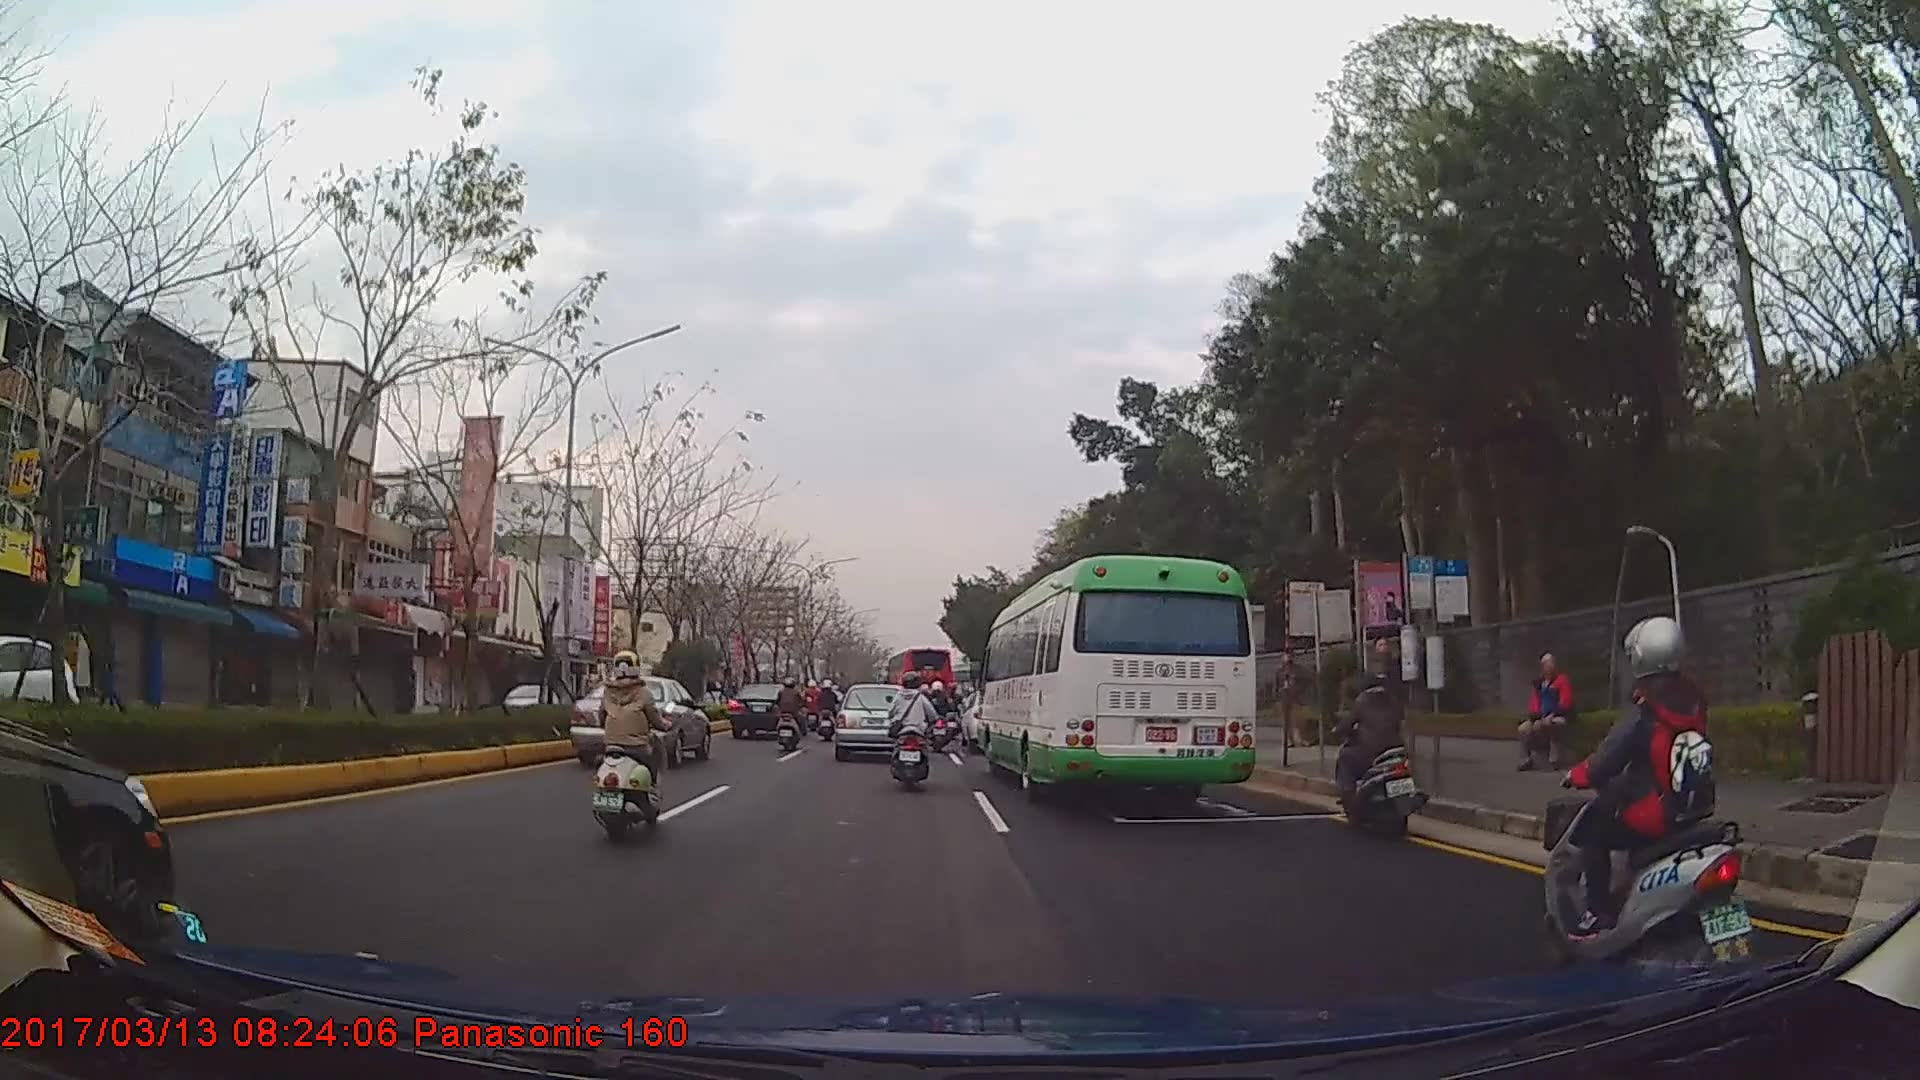pedestrian: (1358, 640, 1414, 792), (1521, 653, 1576, 776), (1268, 648, 1307, 754)
rider: (1546, 616, 1751, 967), (1326, 661, 1421, 845), (595, 651, 675, 846), (889, 676, 939, 793), (778, 679, 810, 756), (928, 681, 955, 738), (818, 680, 841, 743), (805, 680, 825, 734)
vehicle: (975, 554, 1257, 802), (569, 677, 710, 768), (0, 626, 82, 747), (835, 683, 919, 761), (887, 646, 957, 717), (729, 682, 805, 742)
